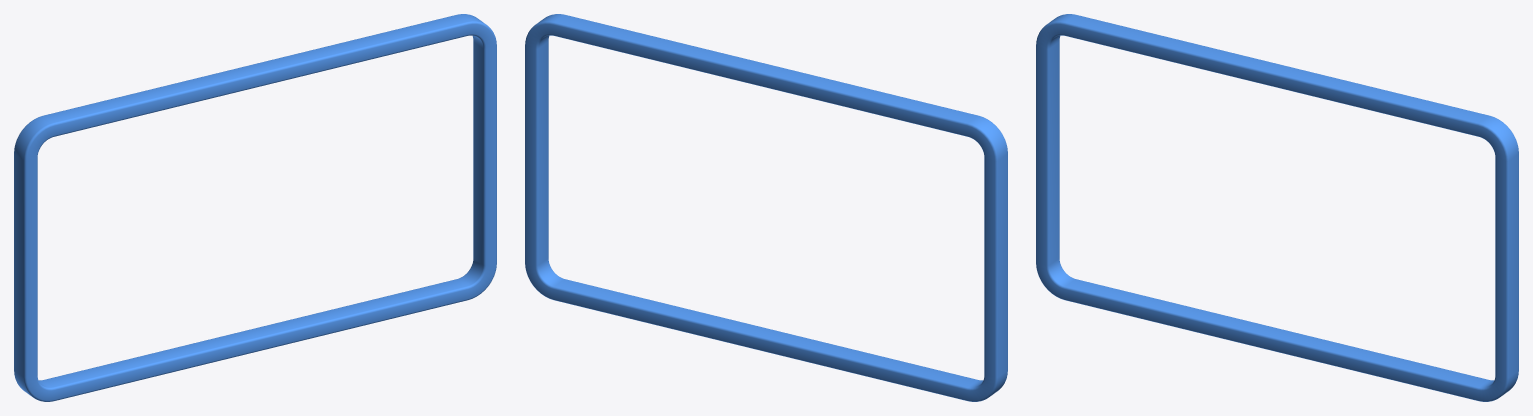
The model's file is marco-horizontal-azul.glb.
3 renders of one model, left to right at view 1: azimuth 30°, elevation 25°; view 2: azimuth 150°, elevation 25°; view 3: azimuth 330°, elevation 25°, orthographic.
Parts seen in each view (by area): view 1: marco; view 2: marco; view 3: marco.
Part boxes in pixels (x1,y1,x2,y2): marco: (14,14,496,401); marco: (525,14,1007,401); marco: (1036,14,1518,401).
Bounding box in the file's own units: 3.2 × 1.8 × 0.14.
